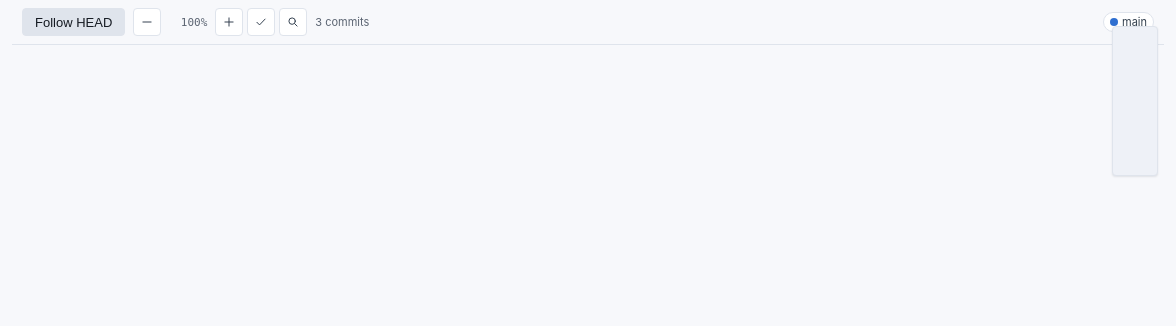
it: right-clicking a commit opens the context menu with the graph actions
Right-click the picture with class "graph-canvas" at (588,112), box top-left (12, 45), bottom-right (1164, 180)
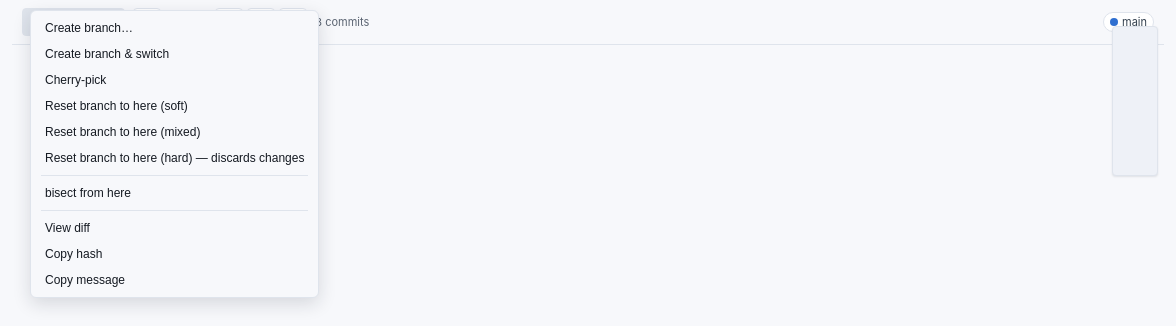
Expected: the button "Create branch…" is shown, top-left (35, 15), bottom-right (314, 41)
Expected: the button "Cherry-pick" is shown, top-left (35, 67), bottom-right (314, 93)
Expected: the button "Reset branch to here (hard) — discards changes" is shown, top-left (35, 145), bottom-right (314, 171)
